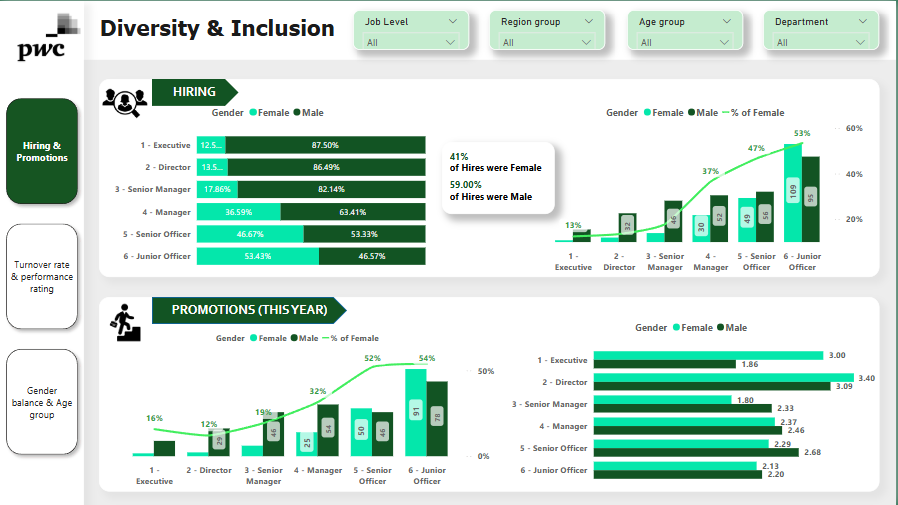

This screenshot's page, from the dashboard's own definition file:
{"tool":"powerbi","page":{"name":"Hiring   &    Promotions","canvas":[1280,720],"ordinal":0},"visuals":[{"type":"shape","box":[0,0,1280,84.1],"z":0},{"type":"shape","box":[0,0,119.7,720.1],"z":1000},{"type":"shape","box":[140.8,111.7,1114.9,283.2],"z":2000},{"type":"shape","box":[140.8,422.4,1114.9,278.3],"z":3000},{"type":"hundredPercentStackedBarChart","fields":{"Category":["Pharma Group AG.Job Level after FY20 promotions"],"Y":["CountNonNull(Pharma Group AG.Employee ID)"],"Series":["Pharma Group AG.Gender"]},"box":[157.1,138.6,455.7,257.1],"z":4000},{"type":"multiRowCard","fields":{"Values":["Pharma Group AG.% of Female","Pharma Group AG.% of Male"]},"box":[631.4,201.4,161.4,102.9],"z":5000},{"type":"lineClusteredColumnComboChart","fields":{"Category":["Pharma Group AG.Job Level after FY20 promotions"],"Y":["CountNonNull(Pharma Group AG.Employee ID)"],"Y2":["Pharma Group AG.% of Female"],"Series":["Pharma Group AG.Gender"]},"box":[752.9,138.6,485.7,257.1],"z":6000},{"type":"shape","box":[217.1,111.4,124.3,38.6],"z":7000},{"type":"textbox","box":[215.7,112.9,124.3,37.1],"z":8000},{"type":"lineClusteredColumnComboChart","fields":{"Category":["Pharma Group AG.Job Level after FY21 promotions"],"Y":["CountNonNull(Pharma Group AG.Employee ID)"],"Y2":["Pharma Group AG.% of Female"],"Series":["Pharma Group AG.Gender"]},"box":[141.4,461.4,571.4,240],"z":9000},{"type":"clusteredBarChart","fields":{"Category":["Pharma Group AG.Job Level after FY20 promotions"],"Series":["Pharma Group AG.Gender"],"Y":["Avg(Pharma Group AG.Time in Job Level @01.07.2020)"]},"box":[724.3,445.7,531.4,255.7],"z":10000},{"type":"shape","box":[217.1,422.9,278.6,38.6],"z":11000},{"type":"textbox","box":[215.7,424.3,281.4,37.1],"z":12000},{"type":"image","box":[141.4,111.4,74.3,70],"z":13000},{"type":"image","box":[141.4,422.9,74.3,72.9],"z":14000},{"type":"slicer","fields":{"Values":["Pharma Group AG.Job Level after FY20 promotions"]},"box":[504.3,12.9,165.7,57.1],"z":15000},{"type":"slicer","fields":{"Values":["Pharma Group AG.Region group: nationality 1"]},"box":[698.6,12.9,165.7,57.1],"z":16000},{"type":"slicer","fields":{"Values":["Pharma Group AG.Age group"]},"box":[895.7,12.9,165.7,57.1],"z":17000},{"type":"slicer","fields":{"Values":["Pharma Group AG.Last Department in FY20"]},"box":[1090,12.9,165.7,57.1],"z":18000},{"type":"textbox","box":[131.4,12.9,358.6,57.1],"z":19000},{"type":"image","box":[10,10,120,84.3],"z":20000},{"type":"pageNavigator","box":[0,130,120,528.6],"z":20001}]}

Visuals, with their boxes in screenshot pixels (x1, y1, x2, y2), scaled from the page's 1280x720 canvas onto the 898x505 screenshot:
shape: BBox(0, 0, 897, 59)
shape: BBox(0, 0, 84, 504)
shape: BBox(99, 78, 881, 277)
shape: BBox(99, 296, 881, 491)
hundredPercentStackedBarChart - Pharma Group AG.Job Level after FY20 promotions x CountNonNull(Pharma Group AG.Employee ID): BBox(110, 97, 430, 278)
multiRowCard - Pharma Group AG.% of Female x Pharma Group AG.% of Male: BBox(443, 141, 556, 213)
lineClusteredColumnComboChart - Pharma Group AG.Job Level after FY20 promotions x CountNonNull(Pharma Group AG.Employee ID): BBox(528, 97, 869, 278)
shape: BBox(152, 78, 240, 105)
textbox: BBox(151, 79, 239, 105)
lineClusteredColumnComboChart - Pharma Group AG.Job Level after FY21 promotions x CountNonNull(Pharma Group AG.Employee ID): BBox(99, 324, 500, 492)
clusteredBarChart - Pharma Group AG.Job Level after FY20 promotions x Pharma Group AG.Gender: BBox(508, 313, 881, 492)
shape: BBox(152, 297, 348, 324)
textbox: BBox(151, 298, 349, 324)
image: BBox(99, 78, 151, 127)
image: BBox(99, 297, 151, 348)
slicer - Pharma Group AG.Job Level after FY20 promotions: BBox(354, 9, 470, 49)
slicer - Pharma Group AG.Region group: nationality 1: BBox(490, 9, 606, 49)
slicer - Pharma Group AG.Age group: BBox(628, 9, 745, 49)
slicer - Pharma Group AG.Last Department in FY20: BBox(765, 9, 881, 49)
textbox: BBox(92, 9, 344, 49)
image: BBox(7, 7, 91, 66)
pageNavigator: BBox(0, 91, 84, 462)
